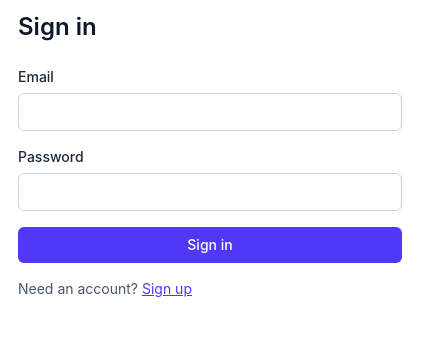
Test: SignInPage › renders a generic form-level error on a 401, not a field error
The width and height of the screenshot is (421, 350).
Type "ada@example.com" into the field labelled "Email" at [210, 112], box [18,93,402,131]
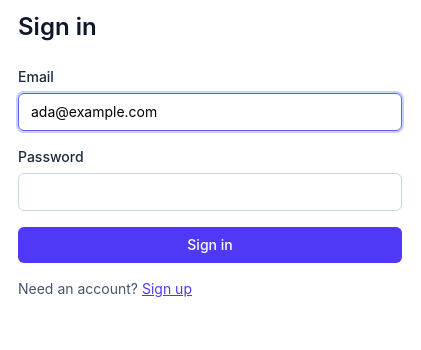
Type "sup3r!secret" into the password field labelled "Password" at [210, 192], box [18,173,402,211]
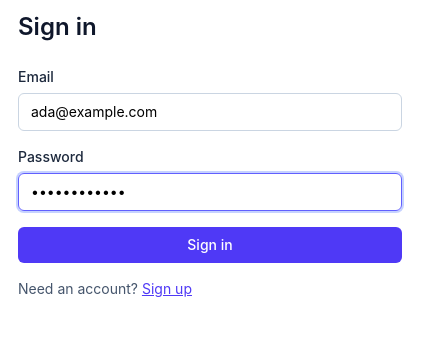
Click the button "Sign in" at [210, 245], box [18,227,402,263]
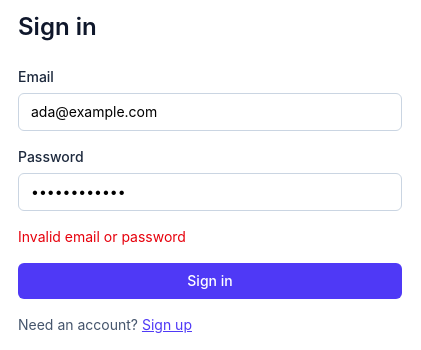
Expected: the message reads "Invalid email or password", [18,228,186,245]
